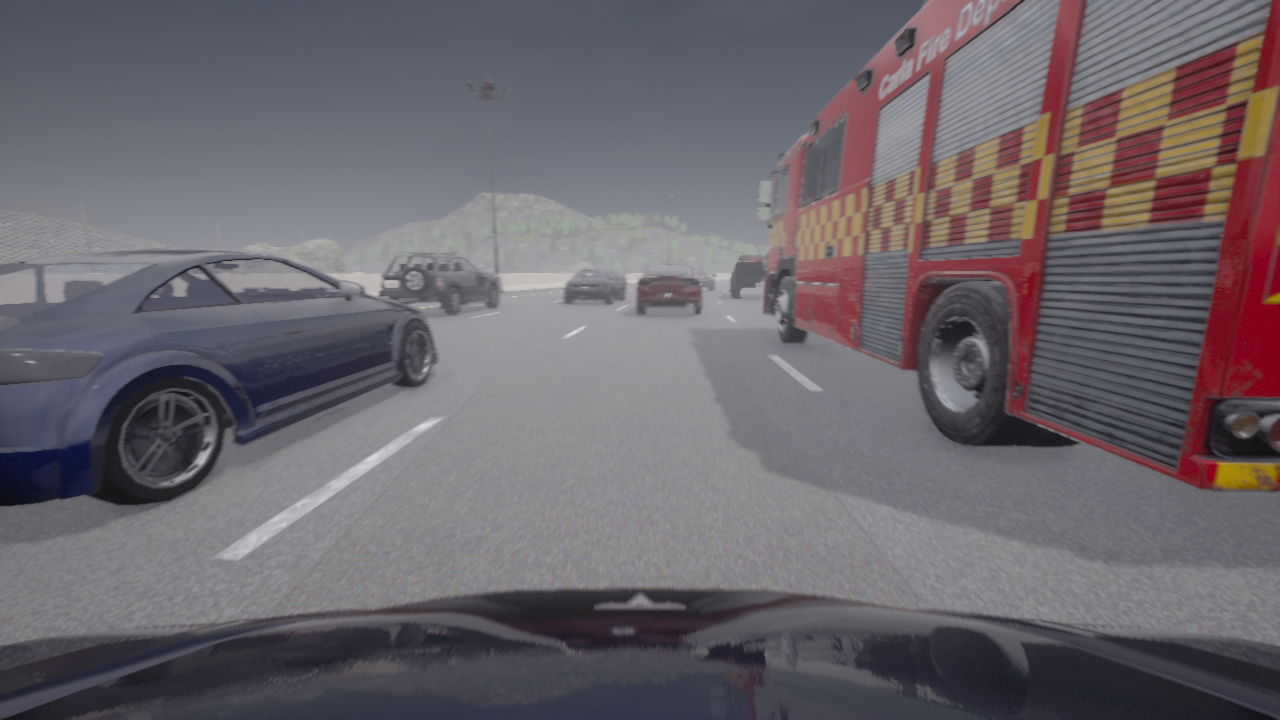cyclist: (756, 0, 1279, 491), (0, 588, 1279, 719), (0, 249, 437, 507), (378, 252, 501, 314), (636, 263, 704, 314), (563, 269, 625, 303), (730, 256, 767, 298), (694, 269, 715, 291), (607, 269, 626, 288)
